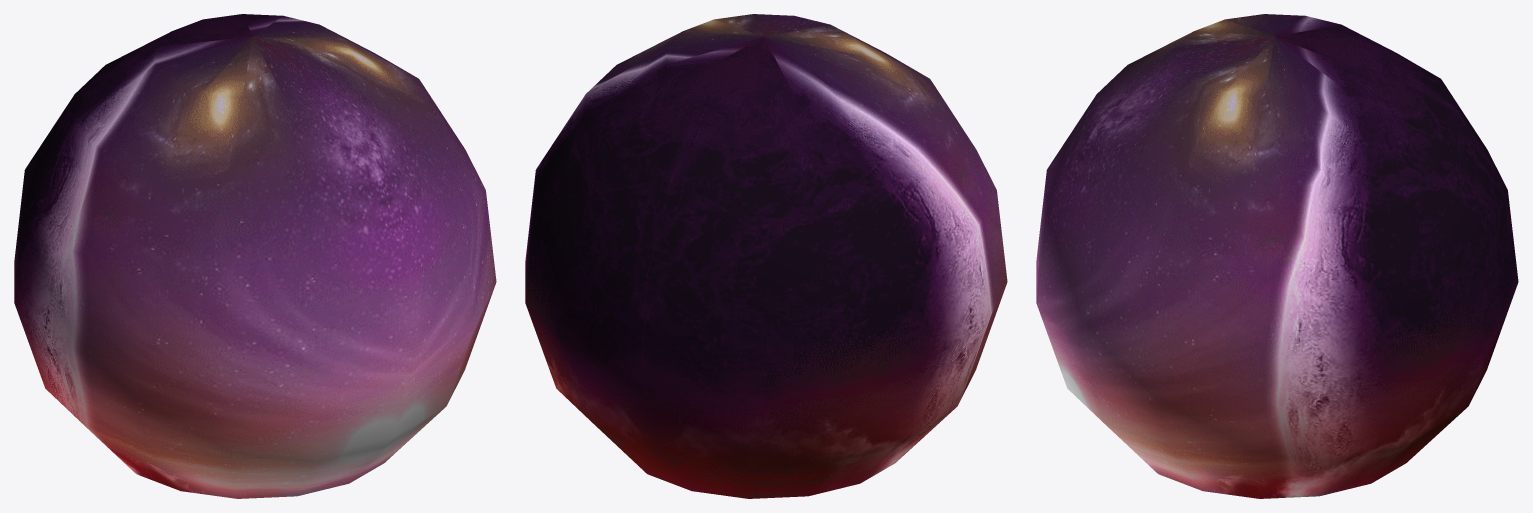
Rendered from 10101_sky3.FBX.
3 renders of one model, left to right at view 1: azimuth 30°, elevation 25°; view 2: azimuth 150°, elevation 25°; view 3: azimuth 270°, elevation 25°, orthographic.
Visible parts, largest first — view 1: 10101_sky3; view 2: 10101_sky3; view 3: 10101_sky3.
Boxes of the visible parts, x1,y1,x2,y2 form: 10101_sky3: [14, 14, 496, 498]; 10101_sky3: [525, 14, 1007, 498]; 10101_sky3: [1036, 14, 1518, 498].
Bounding box in the file's own units: 3397 × 3434 × 3378.
